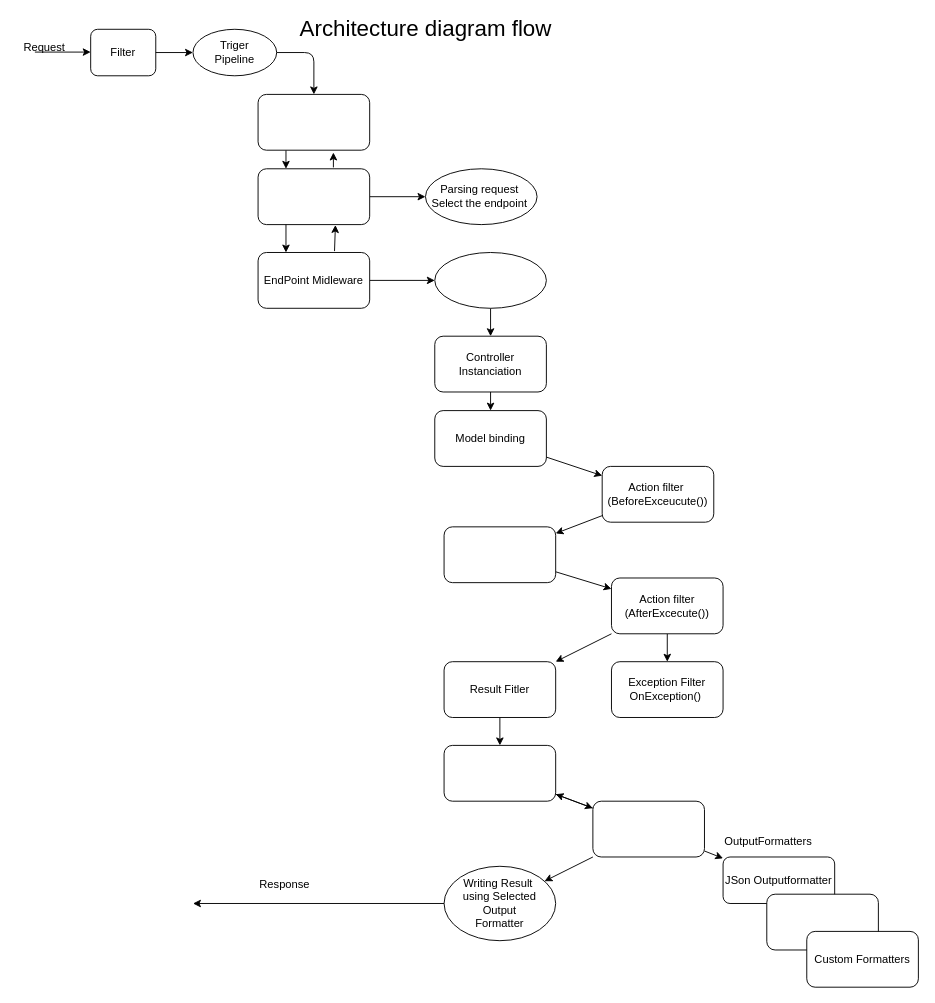
This 935x1003 diagram has some shape labels left out. Here are the shapes that lost their labels. From the top down, the centre of each, then its label:
At (x=313, y=121): "Exception Middleware".
At (x=313, y=196): "Routing Midleware".
At (x=490, y=280): "MVC Framework trigger".
At (x=499, y=554): "Action Execution".
At (x=499, y=772): "Result Execution".
At (x=648, y=828): "Content negociation Using Output Formatter".
At (x=822, y=921): "Xml Formatters".
